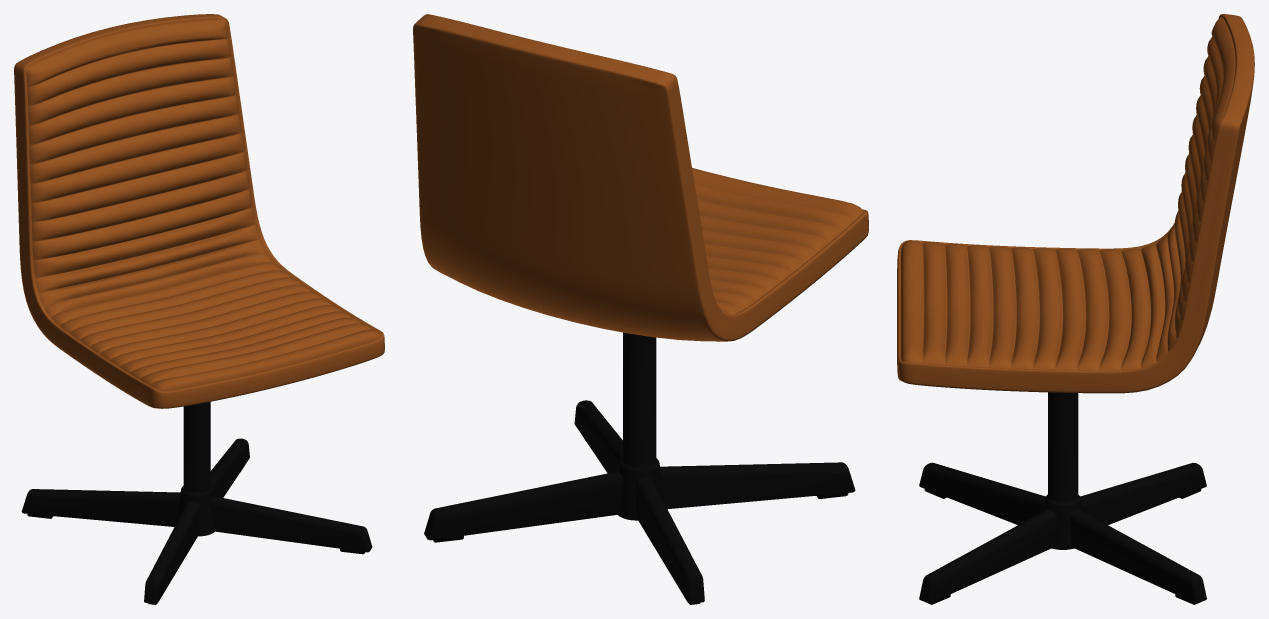
The model's file is Cadeira1.FBX.
The picture shows the model from 3 angles, left to right: view 1: azimuth 30°, elevation 25°; view 2: azimuth 150°, elevation 25°; view 3: azimuth 270°, elevation 25°; orthographic projection. The views are drawn at different scales.
Visible parts, largest first — view 1: 01b8 cadei; view 2: 01b8 cadei; view 3: 01b8 cadei.
Boxes of the visible parts, left/top/right/bottom form: 01b8 cadei: left=14, top=14, right=384, bottom=604; 01b8 cadei: left=413, top=14, right=868, bottom=604; 01b8 cadei: left=897, top=14, right=1254, bottom=604.
Size of the model in its own units: 21.66 by 39.48 by 26.27.
